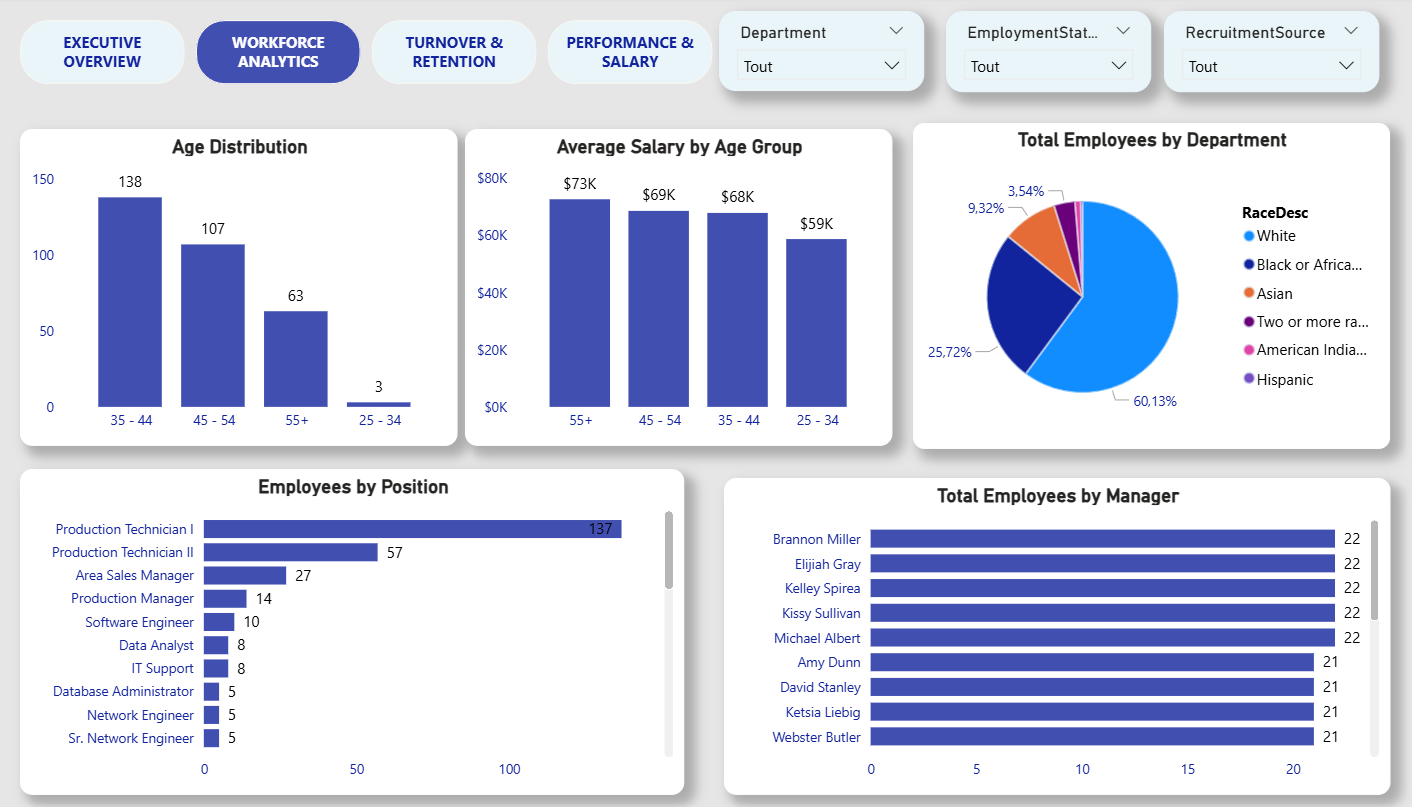

The page's visual inventory and layout, read from the dashboard file:
{"tool":"powerbi","page":{"name":"WORKFORCE ANALYTICS","canvas":[1280,720],"ordinal":1},"visuals":[{"type":"clusteredBarChart","title":"Employees by Position","fields":{"Category":["Position.Position"],"Y":["_mesures.Total Employees"]},"box":[34.7,418.8,589.5,289.4],"z":0},{"type":"clusteredBarChart","title":"Total Employees by Manager","fields":{"Category":["Manager.ManagerName"],"Y":["_mesures.Total Employees"]},"box":[658.8,426.8,590.8,281.4],"z":1000},{"type":"pieChart","title":"Total Employees by Department","fields":{"Category":["EmployeeProfile.RaceDesc"],"Y":["_mesures.Total Employees"]},"box":[826.8,112,422.8,289.4],"z":2000},{"type":"slicer","fields":{"Values":["Department.Department"]},"box":[654.8,12.4,182,71.5],"z":3000},{"type":"slicer","fields":{"Values":["EmploymentStatus.EmploymentStatus"]},"box":[855.9,12.4,182,72.4],"z":4000},{"type":"slicer","fields":{"Values":["RecruitmentSource.RecruitmentSource"]},"box":[1049.4,12.4,190.6,72.4],"z":5000},{"type":"pageNavigator","box":[34.3,20,614.7,57.2],"z":6000},{"type":"clusteredColumnChart","title":"Age Distribution","fields":{"Category":["EmployeeProfile.Age Group"],"Y":["_mesures.Total Employees"]},"box":[34.7,117.4,388.1,281.4],"z":7000},{"type":"clusteredColumnChart","title":"Average Salary by Age Group","fields":{"Category":["EmployeeProfile.Age Group"],"Y":["_mesures.Average Salary"]},"box":[429.4,117.4,378.7,281.4],"z":8000}]}

Visuals, with their boxes in screenshot pixels (x1, y1, x2, y2), scaled from the page's 1280x720 canvas onto the 1412x807 screenshot:
"Employees by Position" clusteredBarChart: <bbox>38, 469, 689, 794</bbox>
"Total Employees by Manager" clusteredBarChart: <bbox>727, 478, 1378, 794</bbox>
"Total Employees by Department" pieChart: <bbox>912, 126, 1378, 450</bbox>
slicer - Department.Department: <bbox>722, 14, 923, 94</bbox>
slicer - EmploymentStatus.EmploymentStatus: <bbox>944, 14, 1145, 95</bbox>
slicer - RecruitmentSource.RecruitmentSource: <bbox>1158, 14, 1368, 95</bbox>
pageNavigator: <bbox>38, 22, 716, 87</bbox>
"Age Distribution" clusteredColumnChart: <bbox>38, 132, 466, 447</bbox>
"Average Salary by Age Group" clusteredColumnChart: <bbox>474, 132, 891, 447</bbox>
